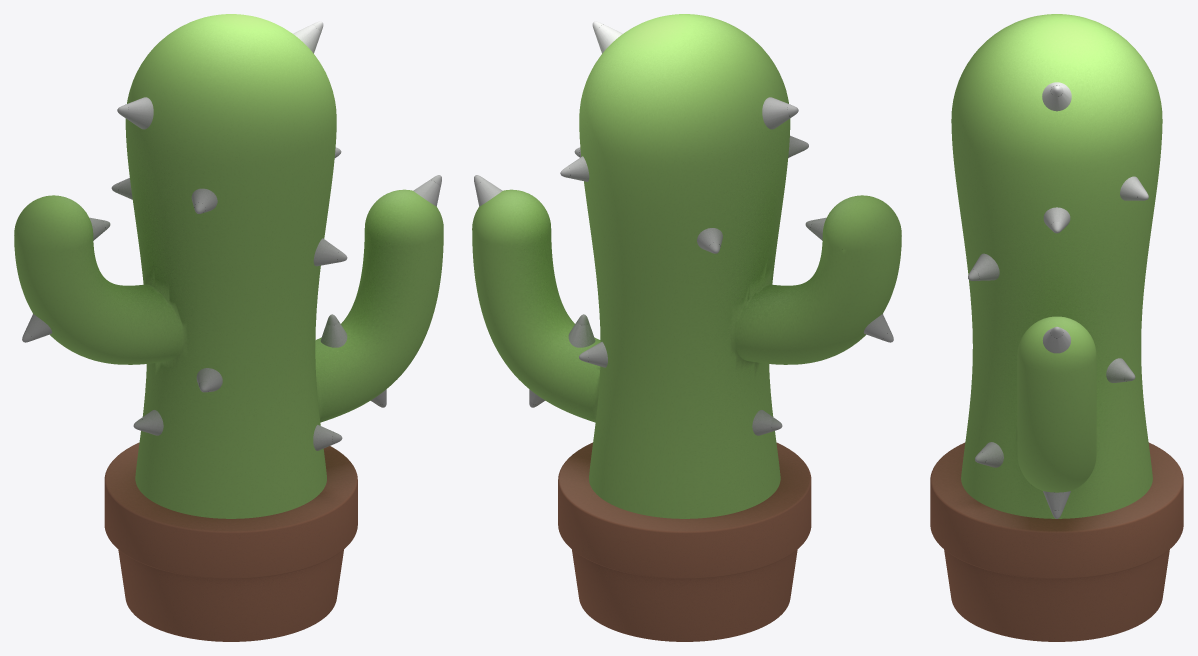
The model's file is shelf_decor2.glb.
The picture shows the model from 3 angles, left to right: view 1: azimuth 30°, elevation 25°; view 2: azimuth 150°, elevation 25°; view 3: azimuth 270°, elevation 25°; orthographic projection.
Parts seen in each view (by area): view 1: Cactus_and_Ghost, Cactus_and_Ghost.002, Cactus_and_Ghost.001; view 2: Cactus_and_Ghost, Cactus_and_Ghost.002, Cactus_and_Ghost.001; view 3: Cactus_and_Ghost, Cactus_and_Ghost.002, Cactus_and_Ghost.001.
Part boxes in pixels (box(x1,y1,x2,y2)): Cactus_and_Ghost: box(14, 14, 443, 518); Cactus_and_Ghost.002: box(104, 442, 357, 641); Cactus_and_Ghost.001: box(22, 21, 441, 450); Cactus_and_Ghost: box(472, 14, 901, 518); Cactus_and_Ghost.002: box(558, 442, 811, 641); Cactus_and_Ghost.001: box(474, 21, 893, 435); Cactus_and_Ghost: box(951, 14, 1162, 518); Cactus_and_Ghost.002: box(930, 442, 1183, 641); Cactus_and_Ghost.001: box(968, 82, 1148, 518).
Size of the model in its own units: 2.33 by 3.03 by 1.21.
3 materials, 3 textured.
